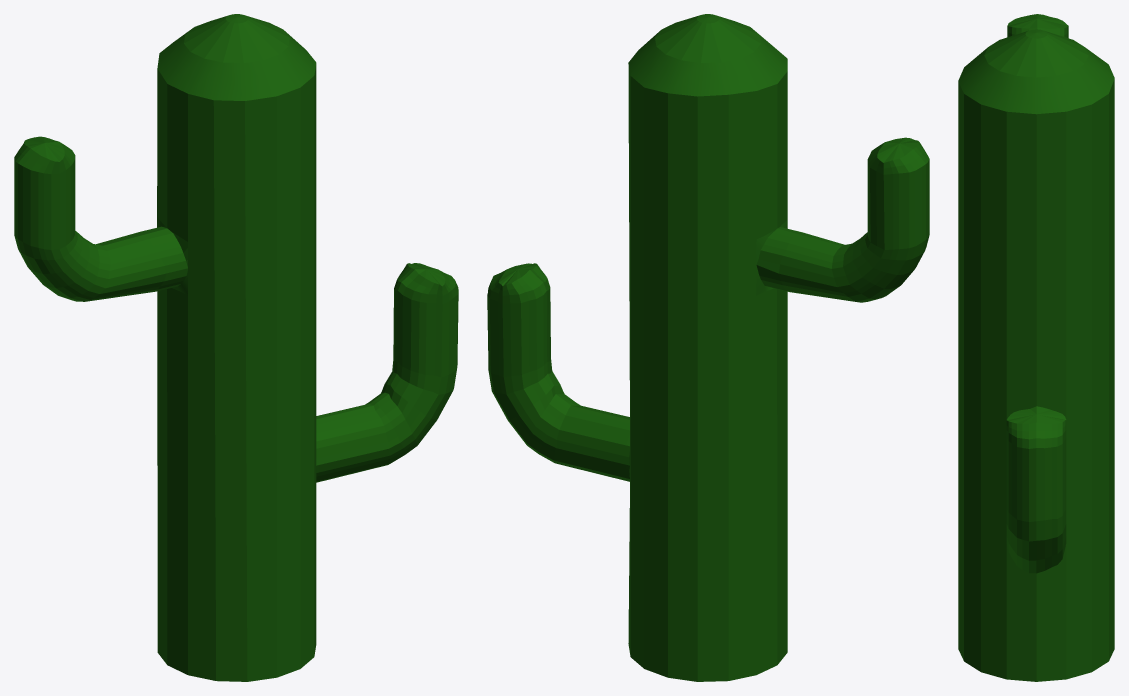
File: cactus.FBX
The picture shows the model from 3 angles, left to right: view 1: azimuth 30°, elevation 25°; view 2: azimuth 150°, elevation 25°; view 3: azimuth 270°, elevation 25°; orthographic projection. The views are drawn at different scales.
Visible parts, largest first — view 1: Main; view 2: Main; view 3: Main.
Boxes of the visible parts, x1,y1,x2,y2 form: Main: (14, 14, 458, 681); Main: (487, 14, 929, 681); Main: (958, 14, 1114, 681).
Size of the model in its own units: 31.42 by 43.41 by 10.
